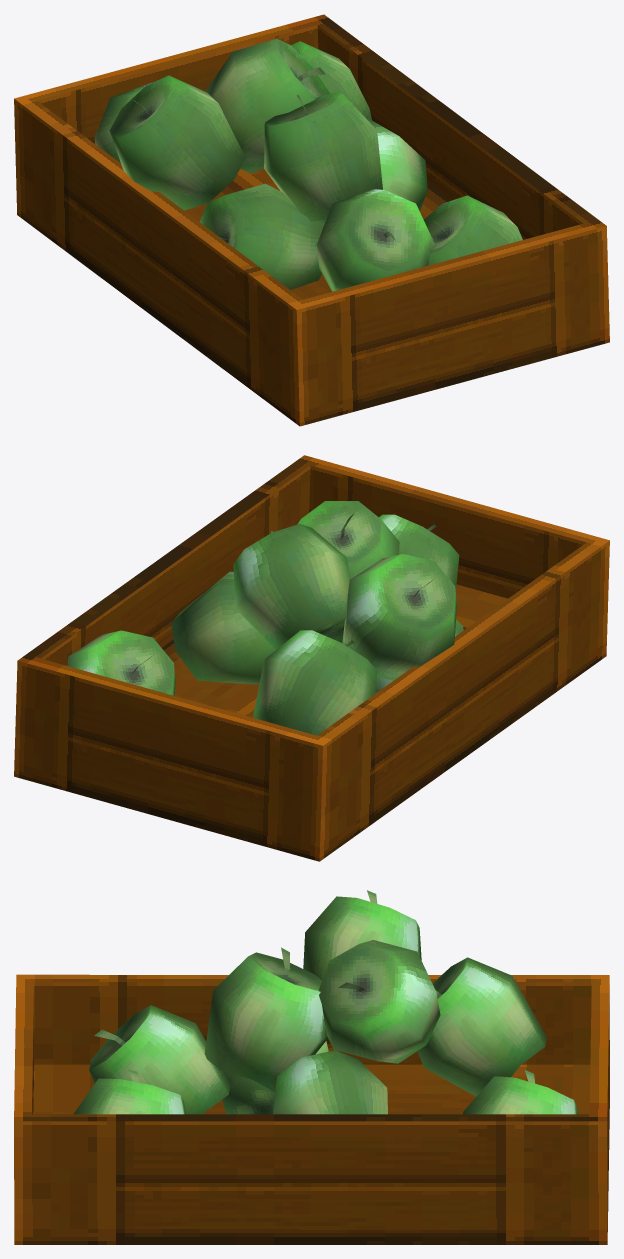
Rendered from INST_HTOWN_BOXOFAPPLES.fbx.
3 views of the same model, one above another, from view 1: azimuth 30°, elevation 25°; view 2: azimuth 150°, elevation 25°; view 3: azimuth 270°, elevation 25° (orthographic). The views are drawn at different scales.
Visible parts, largest first — view 1: INST_HTOWN_BOXOFAPPLES; view 2: INST_HTOWN_BOXOFAPPLES; view 3: INST_HTOWN_BOXOFAPPLES.
Part boxes in pixels (x1,y1,x2,y2): INST_HTOWN_BOXOFAPPLES: [14, 14, 609, 426]; INST_HTOWN_BOXOFAPPLES: [14, 455, 609, 861]; INST_HTOWN_BOXOFAPPLES: [14, 890, 609, 1244].
Bounding box in the file's own units: 4396 × 2824 × 6705.
Materials: 2 (2 with a texture image).
